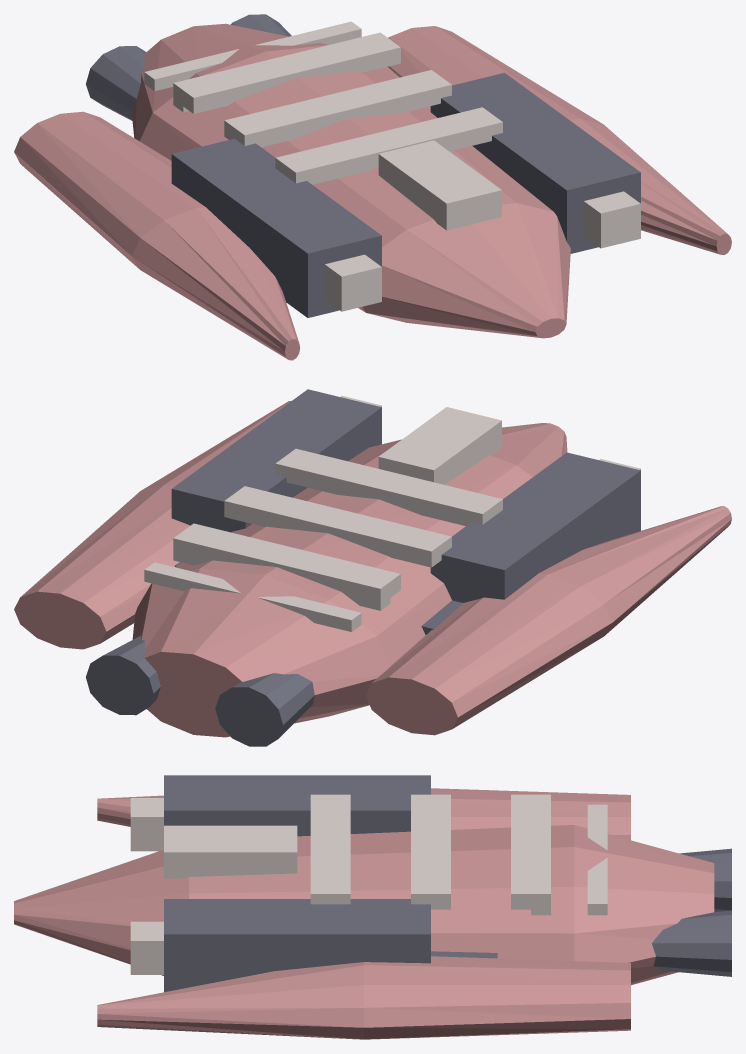
The picture shows the model from 3 angles, top to bottom: view 1: azimuth 30°, elevation 25°; view 2: azimuth 150°, elevation 25°; view 3: azimuth 270°, elevation 25°; orthographic projection. The views are drawn at different scales.
Bounding box in the file's own units: 3.56 × 1.01 × 4.69.
